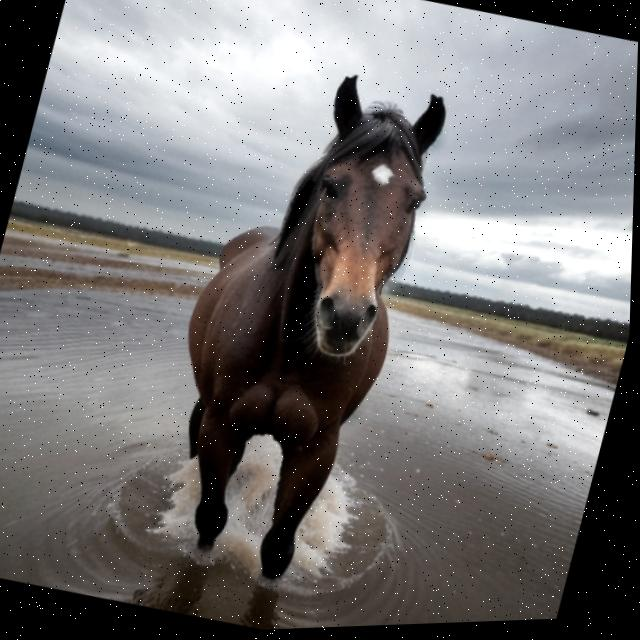horse: (120, 32, 471, 624)
